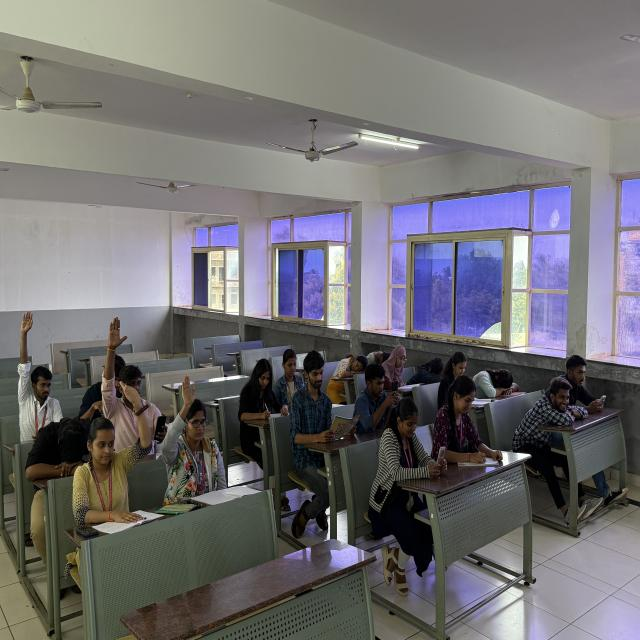Hand Rising: (68, 413, 148, 598), (87, 301, 163, 450), (158, 364, 233, 508), (11, 303, 71, 440)
Reading: (290, 348, 339, 544)
Sleeping: (512, 366, 592, 437), (475, 348, 525, 408), (333, 328, 369, 410)
Using Phone: (374, 376, 448, 498), (355, 344, 404, 440), (560, 354, 608, 414)
Writing: (236, 327, 288, 438), (429, 372, 487, 470)
